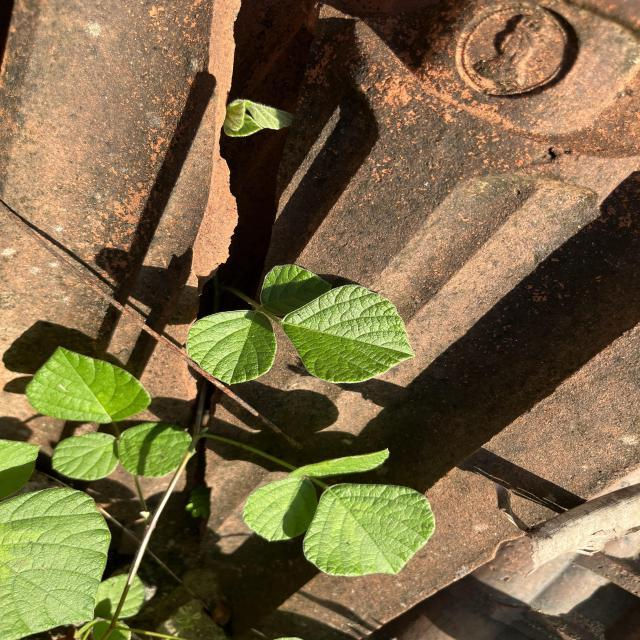Pseudarthria viscida: (184, 261, 418, 386), (241, 445, 438, 578), (24, 342, 199, 482)
